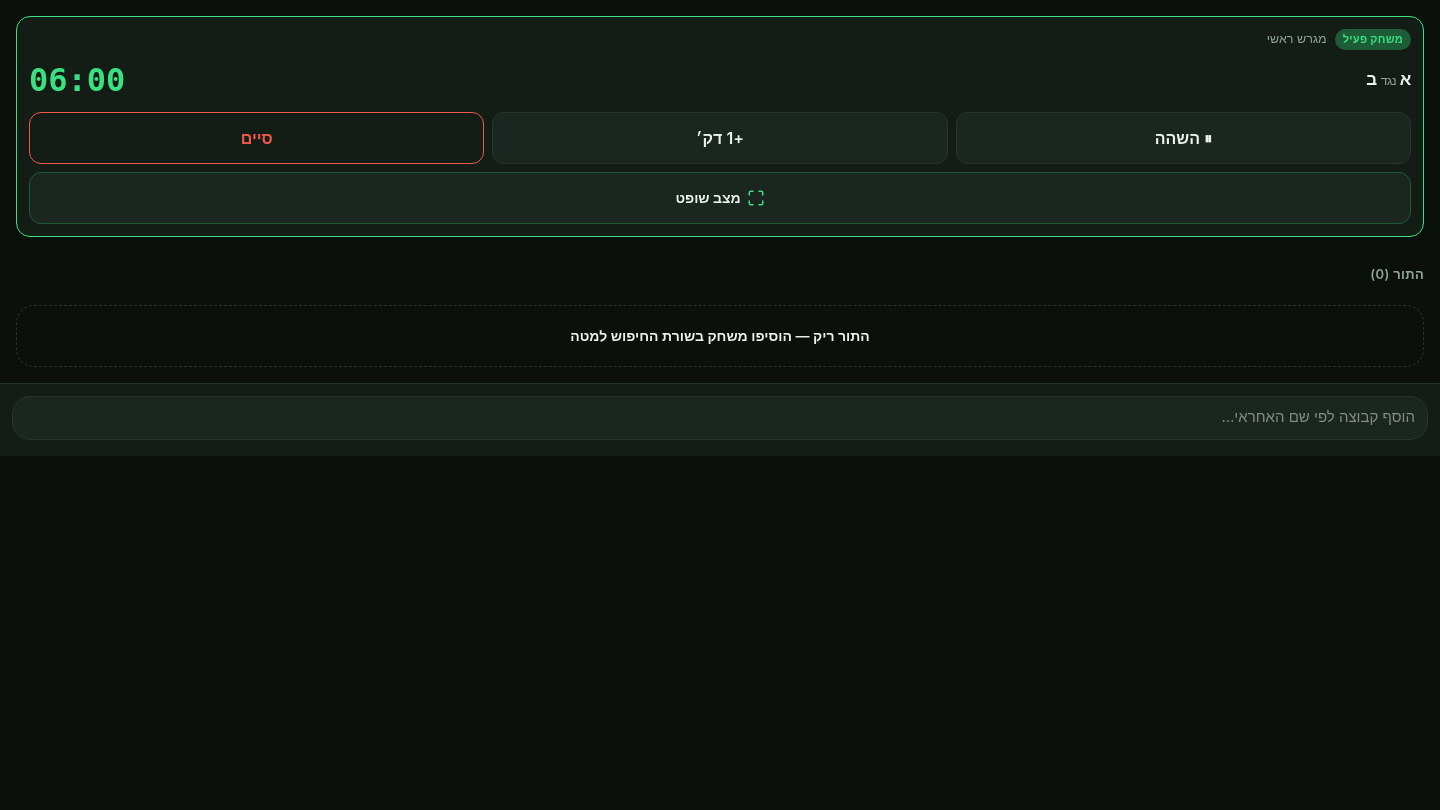
Test case: MainScreen — active session, field live › asks for confirmation before finishing and cancel keeps the match active
Click the button "סיים". click: (257, 138)
box: [29,112,484,164]
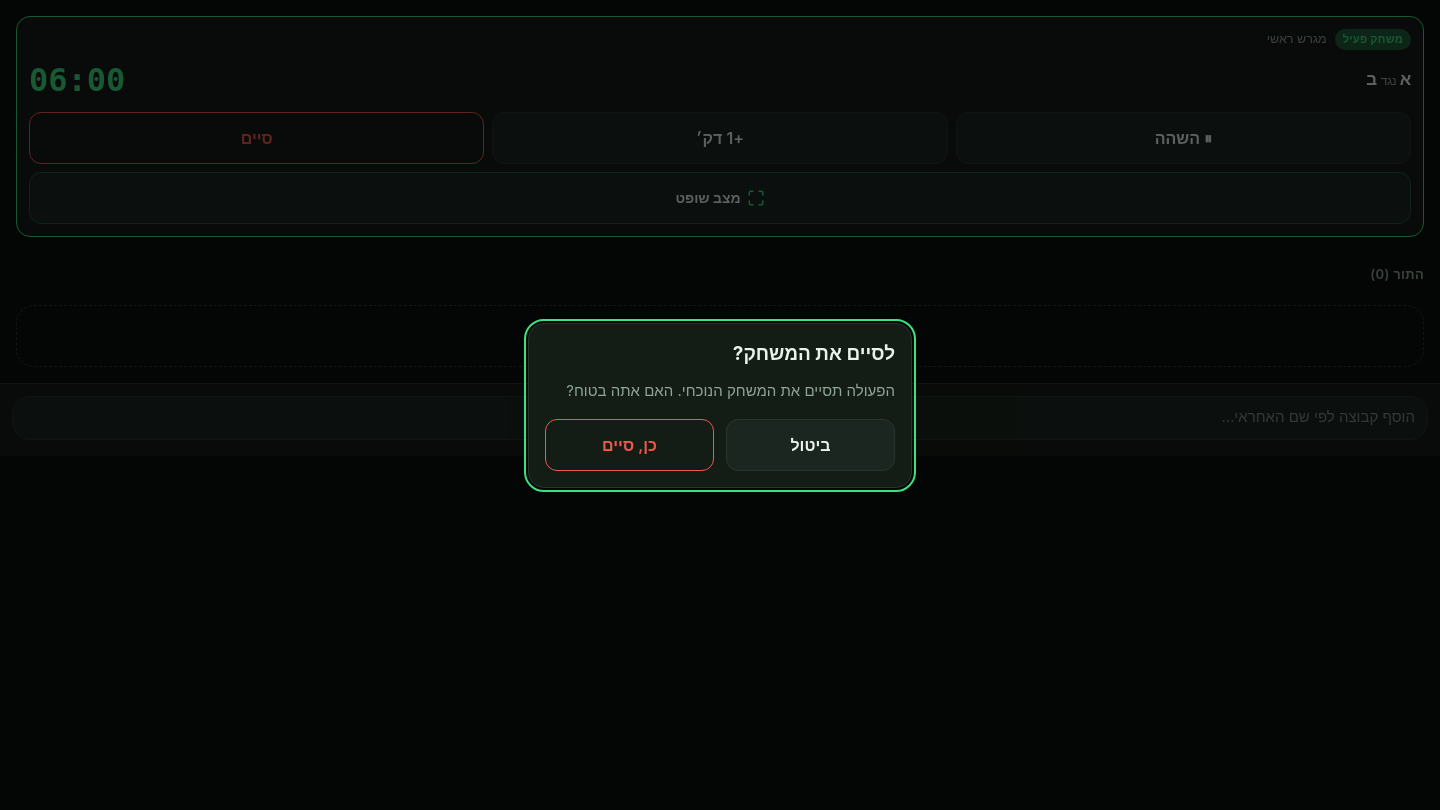
expect the dialog "לסיים את המשחק?" is shown: met, box [528,322,912,488]
expect the text "הפעולה תסיים את המשחק הנוכחי. האם אתה בטוח?" is shown: met, box [545,380,895,402]
Click the button "ביטול". click: (810, 444)
box: [726,418,895,470]
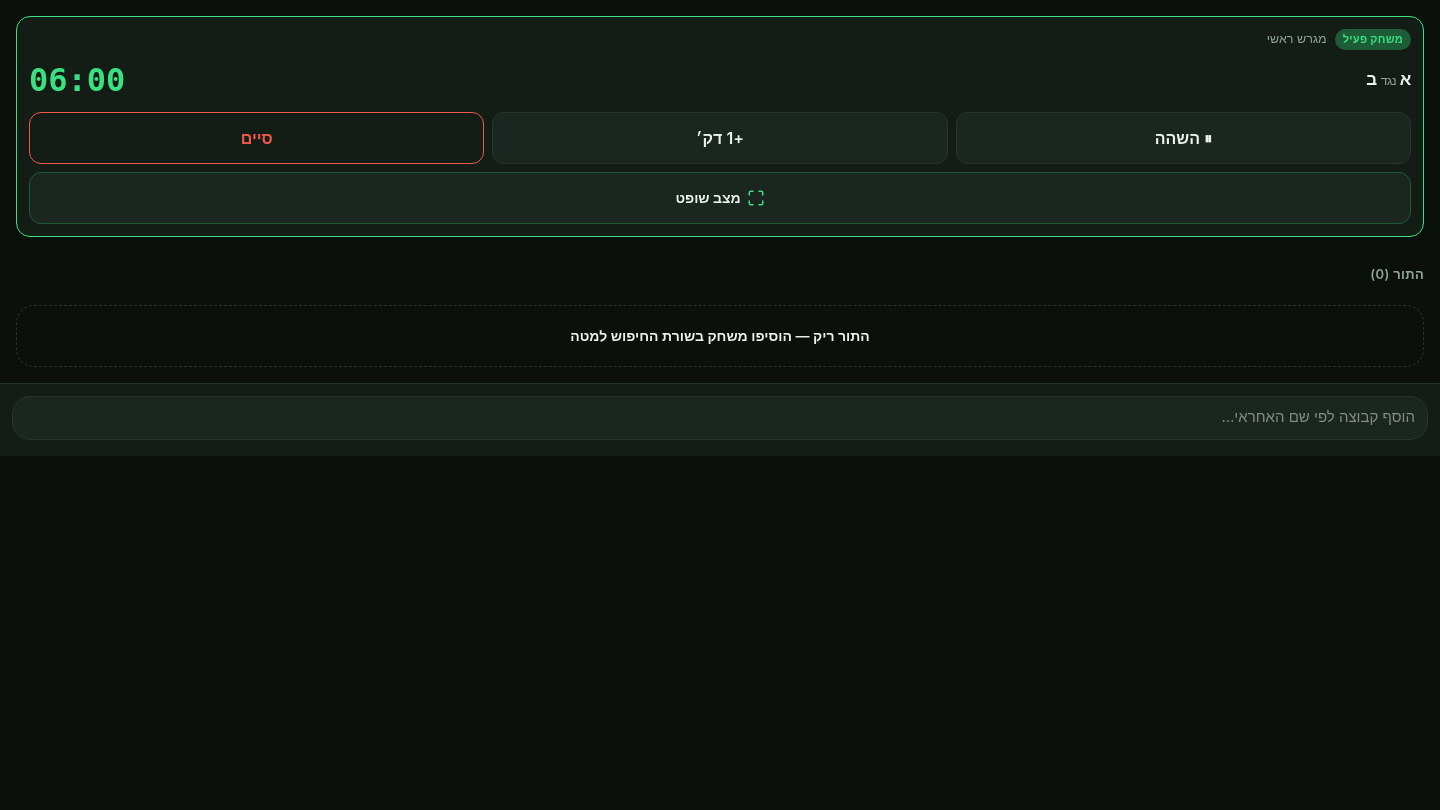
expect the heading "לסיים את המשחק?" is gone: met
Click the button "סיים". click: (257, 138)
box: [29,112,484,164]
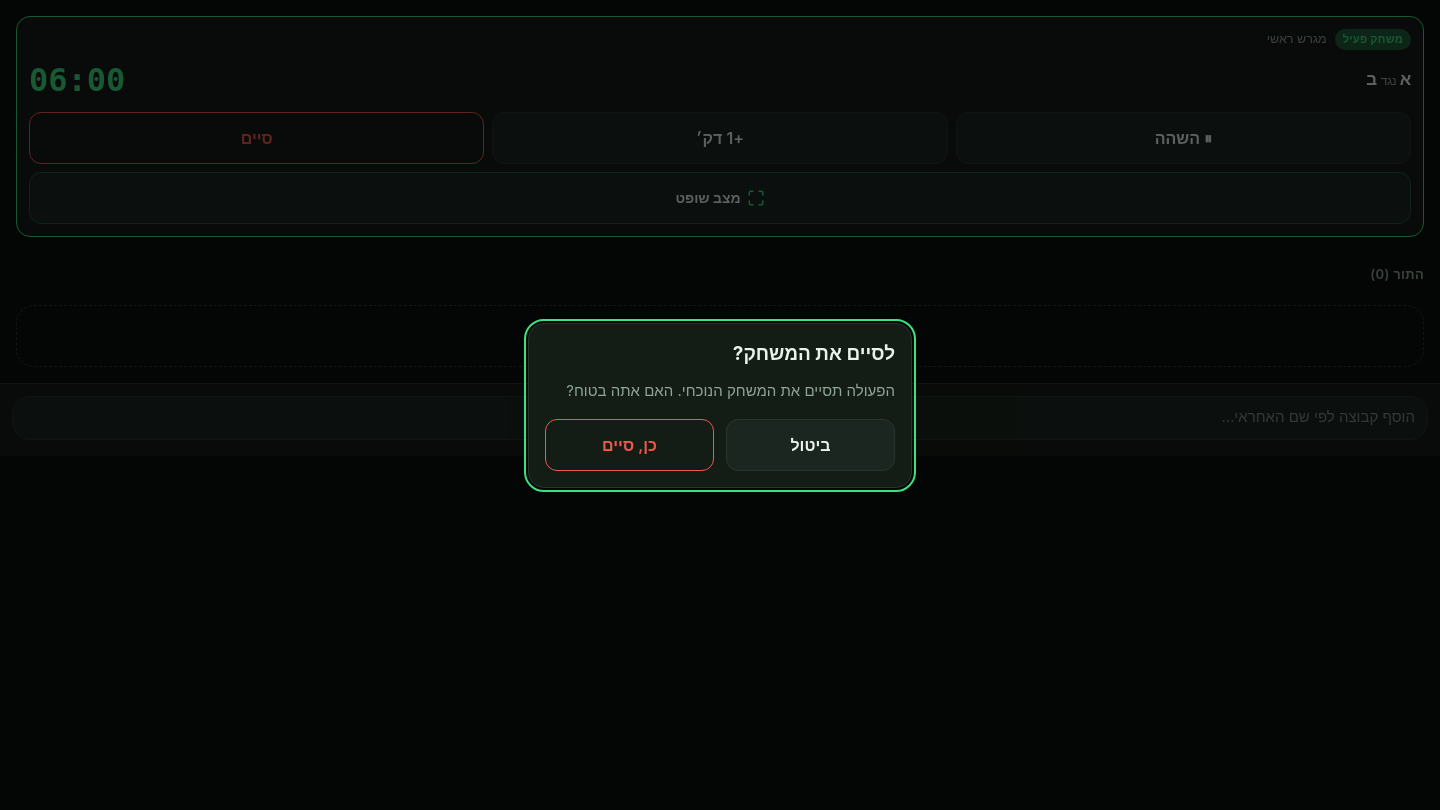
Click the button "כן, סיים". click: (630, 444)
box: [545,418,714,470]
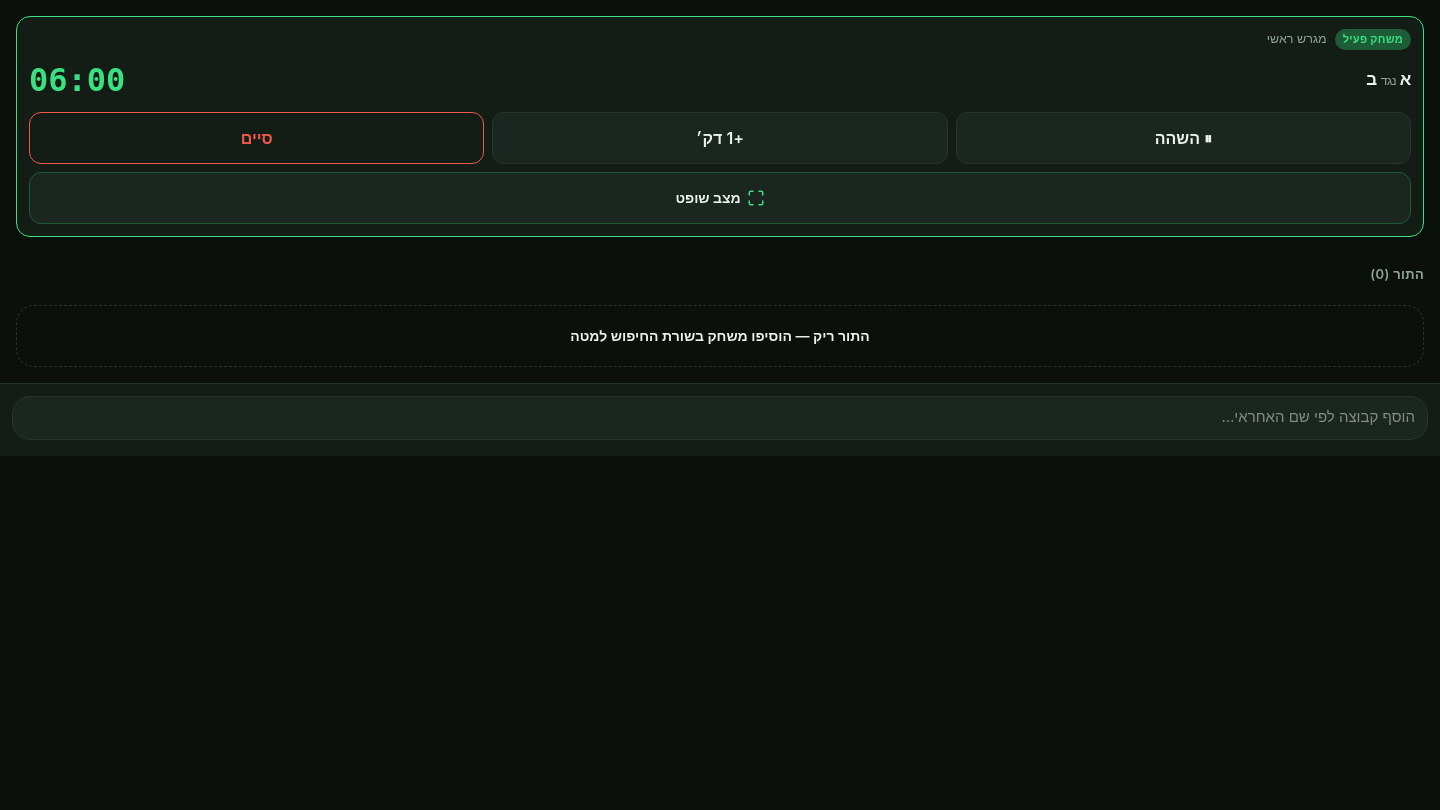
expect the heading "לסיים את המשחק?" is gone: met
